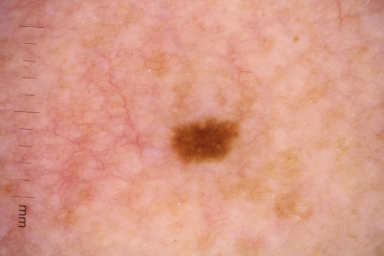nevus: (169, 120, 240, 164)
